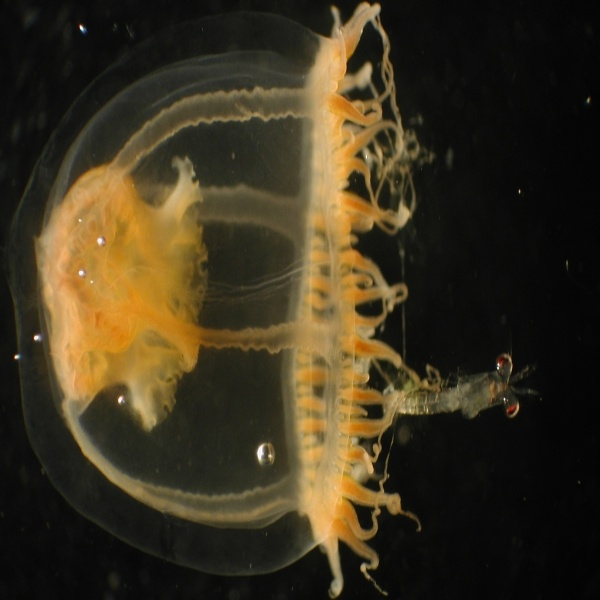Jellyfish: (2, 0, 542, 599)
